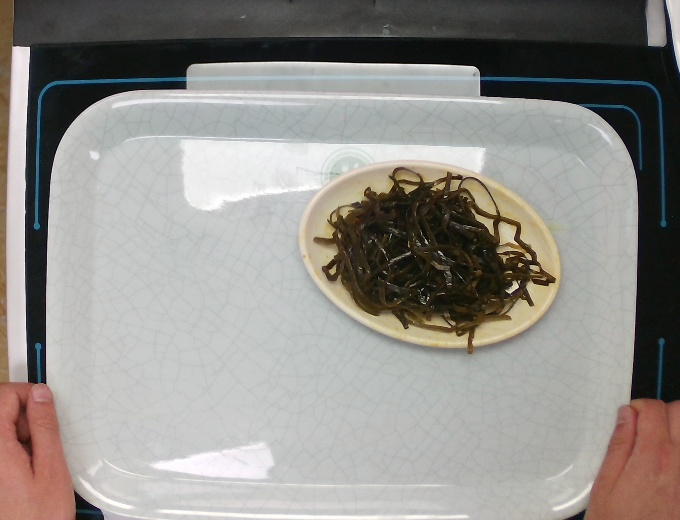JYsf-Tuo_Yuan_Wan: (300, 159, 564, 350)
